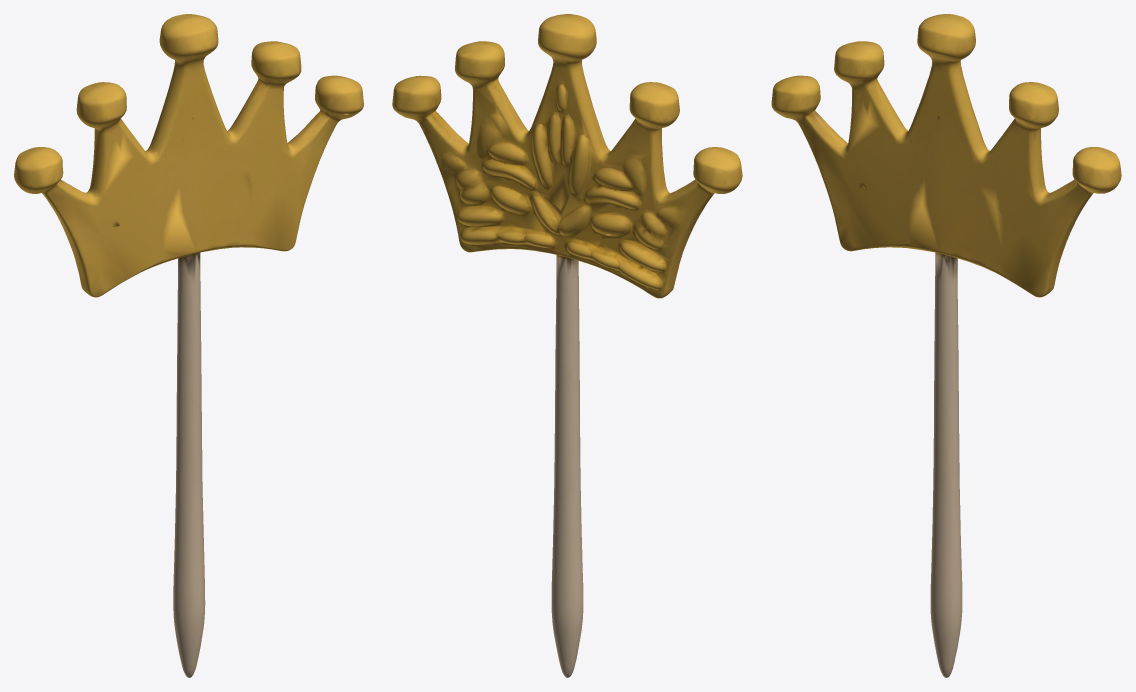
Rendered from bk-topper-crown.glb.
The picture shows the model from 3 angles, left to right: view 1: azimuth 30°, elevation 25°; view 2: azimuth 150°, elevation 25°; view 3: azimuth 330°, elevation 25°; orthographic projection.
Visible parts, largest first — view 1: node_0; view 2: node_0; view 3: node_0.
Part boxes in pixels (left/top/right/bottom): node_0: left=14, top=14, right=363, bottom=677; node_0: left=392, top=14, right=742, bottom=677; node_0: left=771, top=14, right=1121, bottom=677.
Size of the model in its own units: 0.6522 by 1.2 by 0.097.
Materials: 1 (1 with a texture image).
